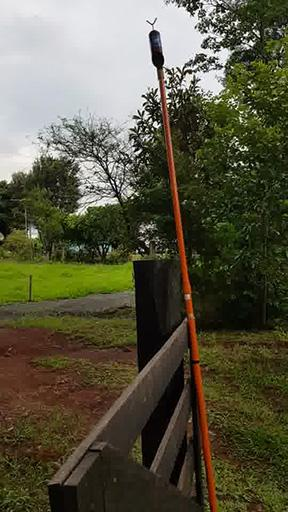Detector_Tensao_Contato: (143, 18, 165, 68)
Vara_Manobra: (154, 67, 216, 512)
